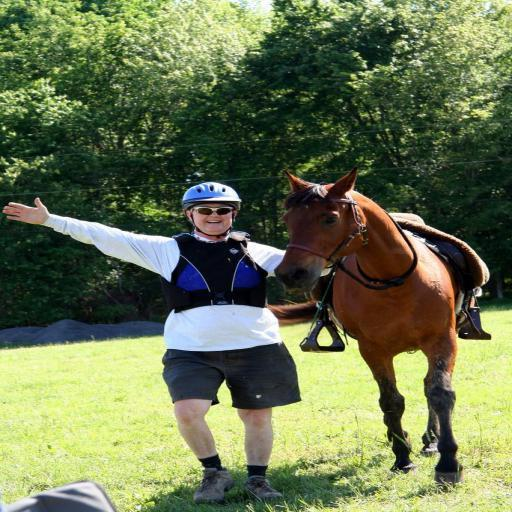horse: (278, 166, 472, 486)
